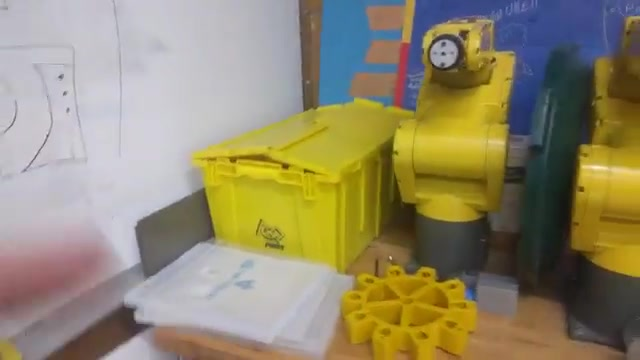gear: (344, 266, 476, 360)
